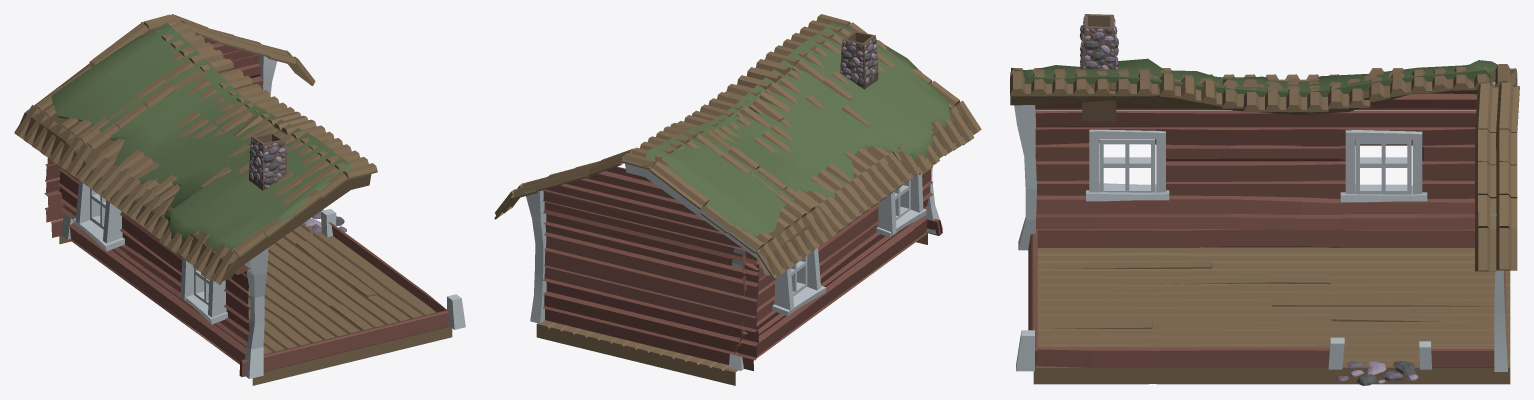
Rendered from P_Cabin_Inside_01_LD.fbx.
3 views of the same model, side by side, from view 1: azimuth 30°, elevation 25°; view 2: azimuth 150°, elevation 25°; view 3: azimuth 270°, elevation 25° (orthographic). The views are drawn at different scales.
Visible parts, largest first — view 1: P_cabin_Inside_01; view 2: P_cabin_Inside_01; view 3: P_cabin_Inside_01.
Part boxes in pixels (x1,y1,x2,y2): P_cabin_Inside_01: (14, 14, 465, 385); P_cabin_Inside_01: (494, 14, 981, 385); P_cabin_Inside_01: (1010, 14, 1519, 385).
Bounding box in the file's own units: 864 × 620 × 1064.
Materials: 1 (1 with a texture image).
